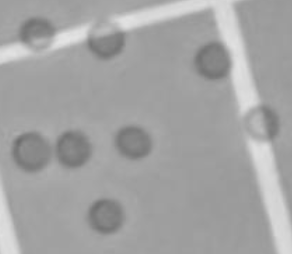cell: (8, 126, 55, 177), (82, 15, 129, 62), (52, 124, 96, 173), (238, 99, 283, 146), (82, 192, 128, 237), (190, 38, 234, 83), (111, 120, 155, 163), (15, 13, 59, 56)
